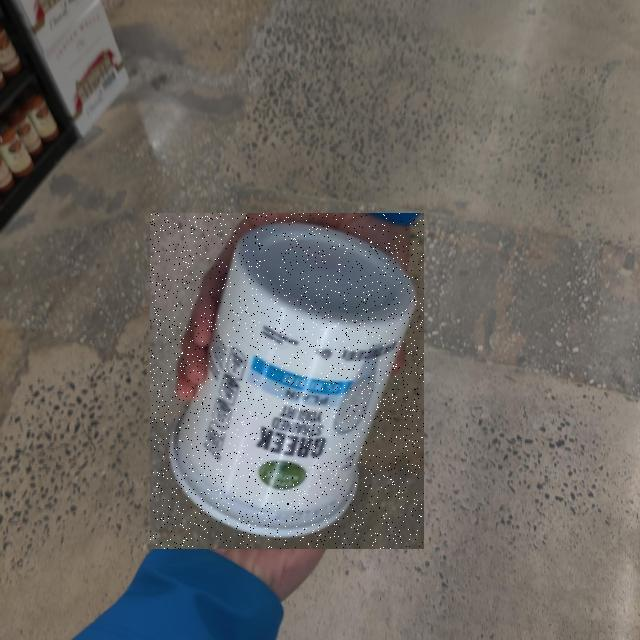Yoghurt: (150, 213, 424, 549)
